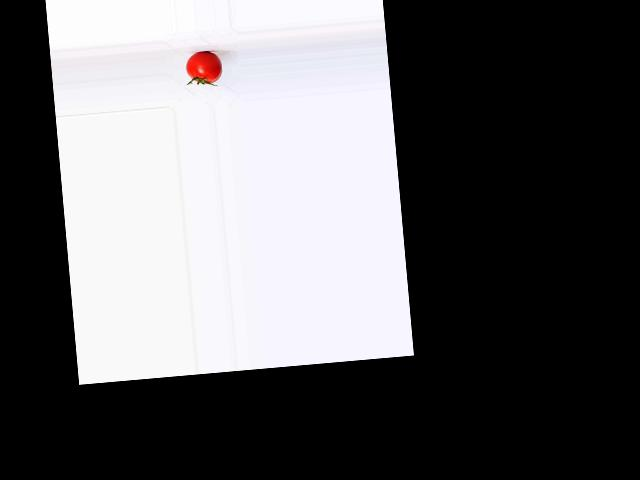tomato: (185, 50, 224, 84)
